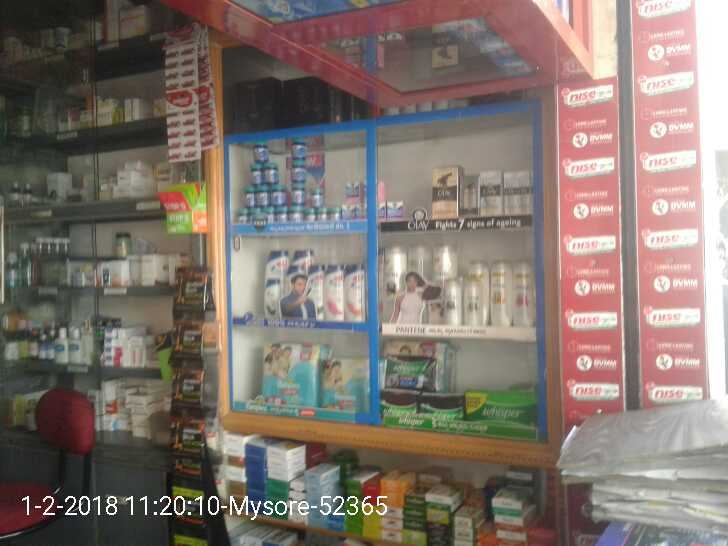beauty: (427, 164, 461, 221), (256, 246, 282, 320), (512, 259, 537, 331), (381, 241, 410, 298), (489, 262, 510, 328), (502, 171, 532, 216), (342, 260, 363, 320), (322, 263, 344, 320), (477, 175, 502, 215), (442, 276, 461, 324), (465, 279, 483, 324), (310, 264, 324, 321)
pharmacy: (254, 346, 320, 404), (322, 354, 377, 413), (467, 391, 542, 426), (416, 392, 466, 420), (338, 177, 366, 218), (379, 390, 418, 415), (285, 137, 309, 159), (249, 140, 269, 164), (288, 162, 308, 185), (261, 164, 279, 185), (274, 201, 289, 226), (248, 164, 263, 188), (290, 184, 305, 206), (288, 204, 305, 223), (267, 186, 282, 205), (255, 189, 269, 209), (241, 189, 255, 208), (246, 205, 259, 225), (312, 186, 323, 209), (235, 204, 246, 227), (263, 208, 277, 225), (316, 207, 330, 223), (328, 204, 341, 220), (305, 206, 316, 223)
